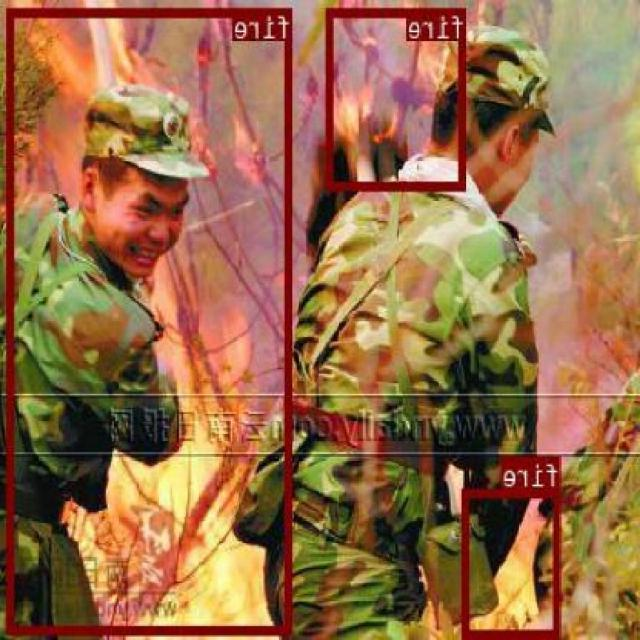Fire: (8, 7, 294, 633), (328, 8, 468, 189), (464, 487, 564, 636)
